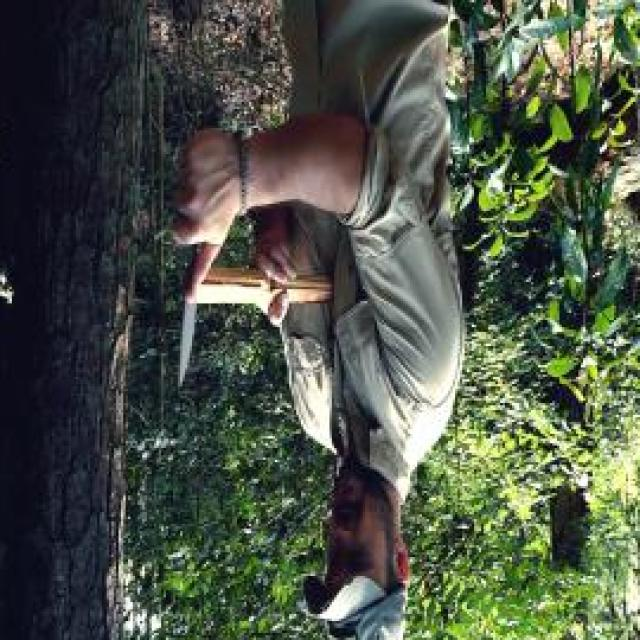knife: (166, 173, 237, 398)
